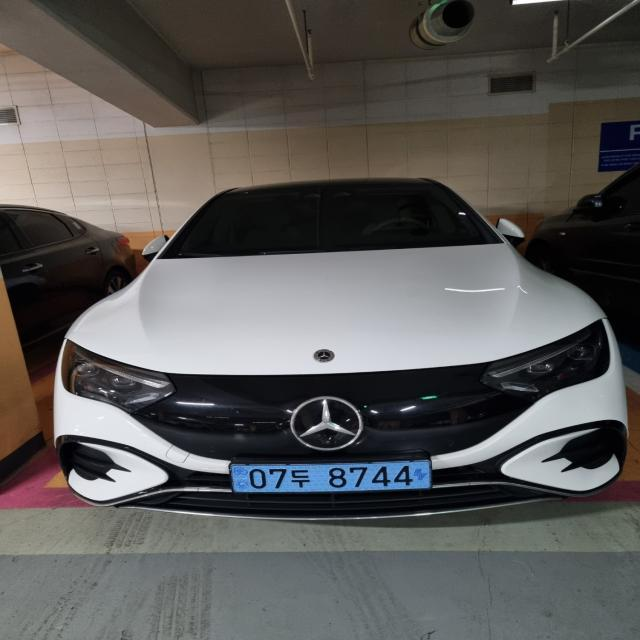car: (211, 445, 465, 505)
carev: (407, 457, 438, 486), (226, 464, 250, 497)
